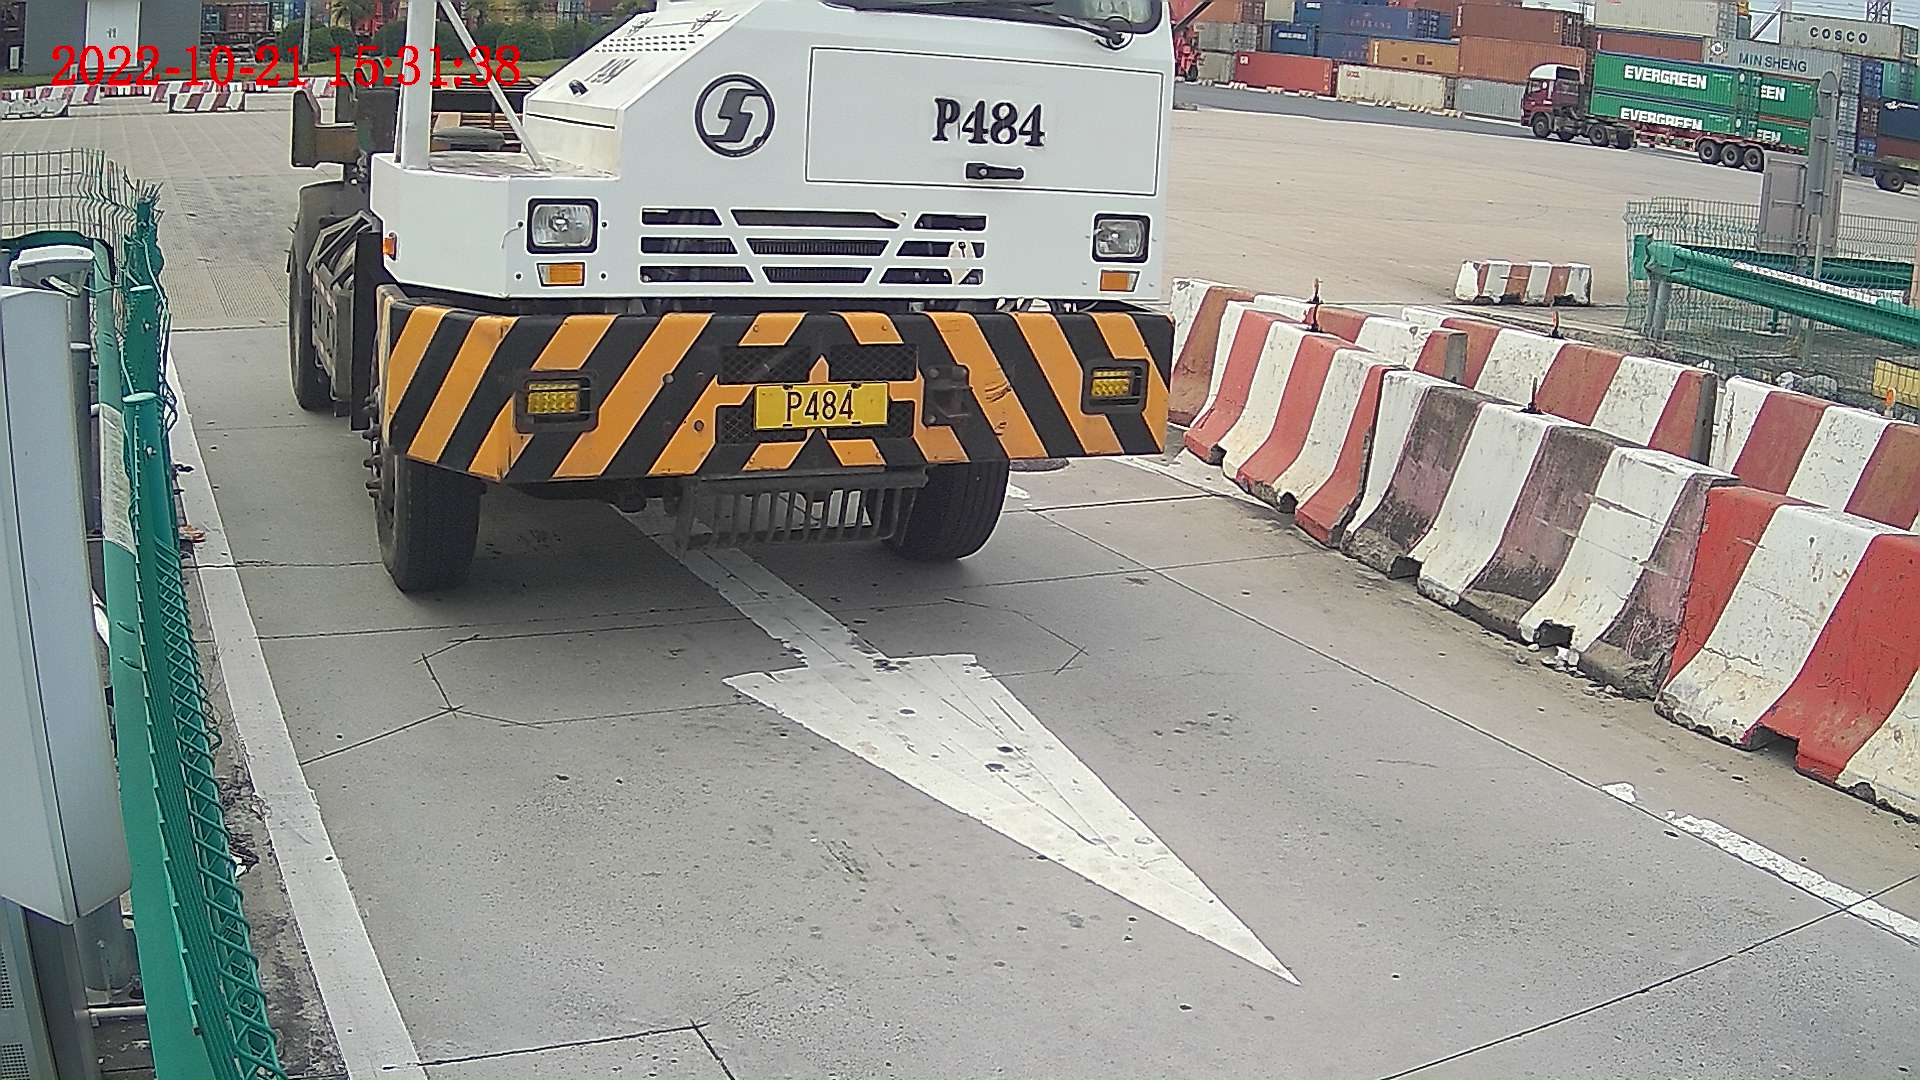head: (361, 1, 1179, 594)
plate: (752, 382, 891, 426)
